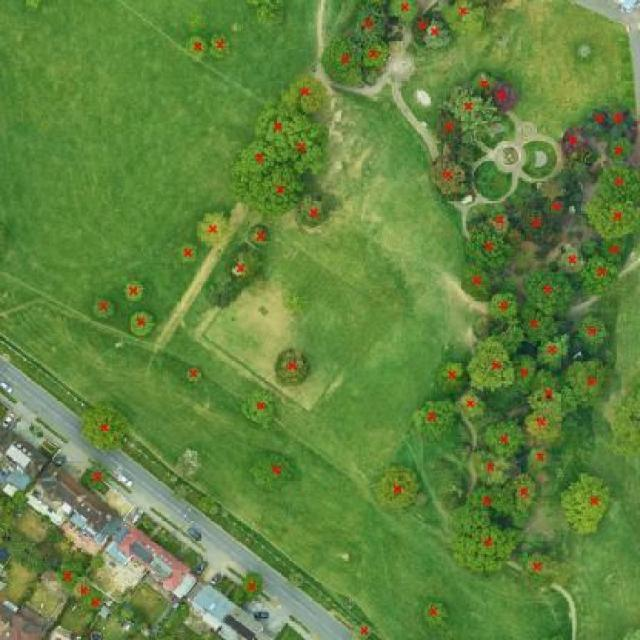tree: (559, 471, 618, 535), (452, 523, 520, 577), (77, 401, 137, 455), (316, 32, 369, 91), (248, 164, 308, 216), (525, 368, 584, 420), (278, 115, 330, 173), (0, 527, 55, 578), (372, 463, 425, 514), (470, 342, 519, 396), (524, 268, 578, 317), (583, 196, 640, 239), (448, 89, 500, 136), (461, 480, 514, 525), (283, 69, 332, 117), (410, 397, 459, 445), (570, 359, 621, 404), (424, 154, 475, 198), (464, 229, 516, 272), (430, 458, 473, 510), (603, 385, 640, 445), (250, 450, 301, 492), (253, 104, 305, 145), (579, 252, 623, 298), (271, 347, 317, 390), (439, 0, 490, 38), (535, 182, 577, 228), (483, 417, 529, 458), (592, 163, 640, 202), (346, 0, 389, 43), (203, 267, 246, 310), (225, 239, 265, 284), (240, 387, 283, 428), (234, 135, 278, 175), (516, 304, 556, 347), (469, 446, 511, 486), (515, 206, 558, 245), (556, 121, 595, 164), (194, 207, 235, 247), (433, 358, 473, 398), (295, 190, 337, 228), (573, 312, 615, 350), (430, 107, 467, 148), (510, 469, 542, 514), (459, 262, 495, 302), (595, 234, 637, 268), (243, 0, 292, 29), (523, 408, 566, 441), (417, 596, 454, 633), (170, 445, 208, 481), (519, 549, 559, 583), (597, 134, 640, 165), (359, 36, 396, 72), (535, 332, 570, 370), (0, 489, 34, 528), (509, 353, 540, 395), (454, 389, 491, 423), (236, 568, 269, 604), (421, 18, 457, 50), (486, 290, 523, 321), (489, 79, 523, 112), (79, 462, 113, 495), (557, 241, 589, 276), (204, 28, 235, 64), (470, 312, 507, 341), (477, 209, 515, 237), (126, 308, 159, 340), (57, 558, 86, 594), (180, 32, 211, 63), (245, 223, 277, 252), (469, 70, 500, 99), (608, 103, 637, 134), (586, 101, 614, 133), (388, 0, 422, 26), (174, 239, 203, 267), (196, 495, 229, 519), (121, 275, 148, 304), (526, 445, 555, 472), (90, 294, 118, 321), (410, 11, 436, 38), (83, 588, 106, 615), (73, 574, 95, 601), (172, 481, 194, 507), (351, 617, 375, 640), (288, 568, 309, 592), (18, 0, 47, 15), (185, 366, 205, 385)
